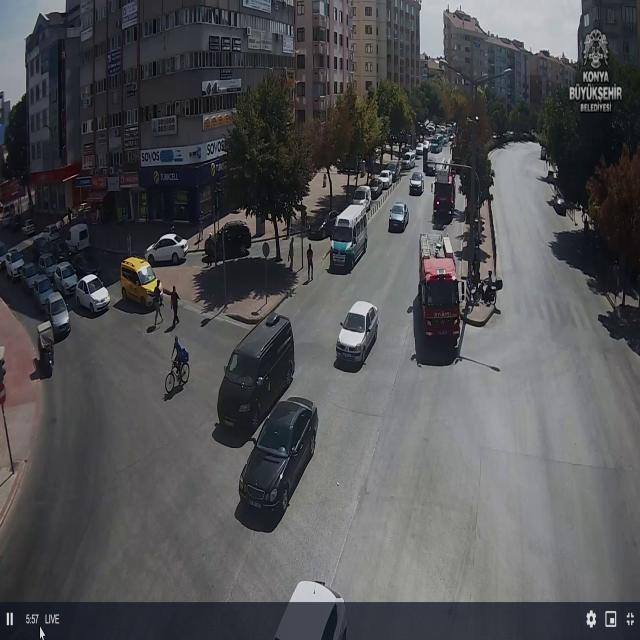Bus: (416, 230, 461, 349), (327, 202, 370, 274), (430, 155, 456, 218)
Car: (239, 394, 320, 518), (334, 300, 378, 364), (74, 274, 110, 314), (40, 292, 72, 336), (52, 261, 78, 288), (388, 202, 409, 232), (408, 172, 424, 196)
Cycle: (163, 333, 190, 397)
Van: (217, 314, 295, 428), (118, 258, 165, 306)
